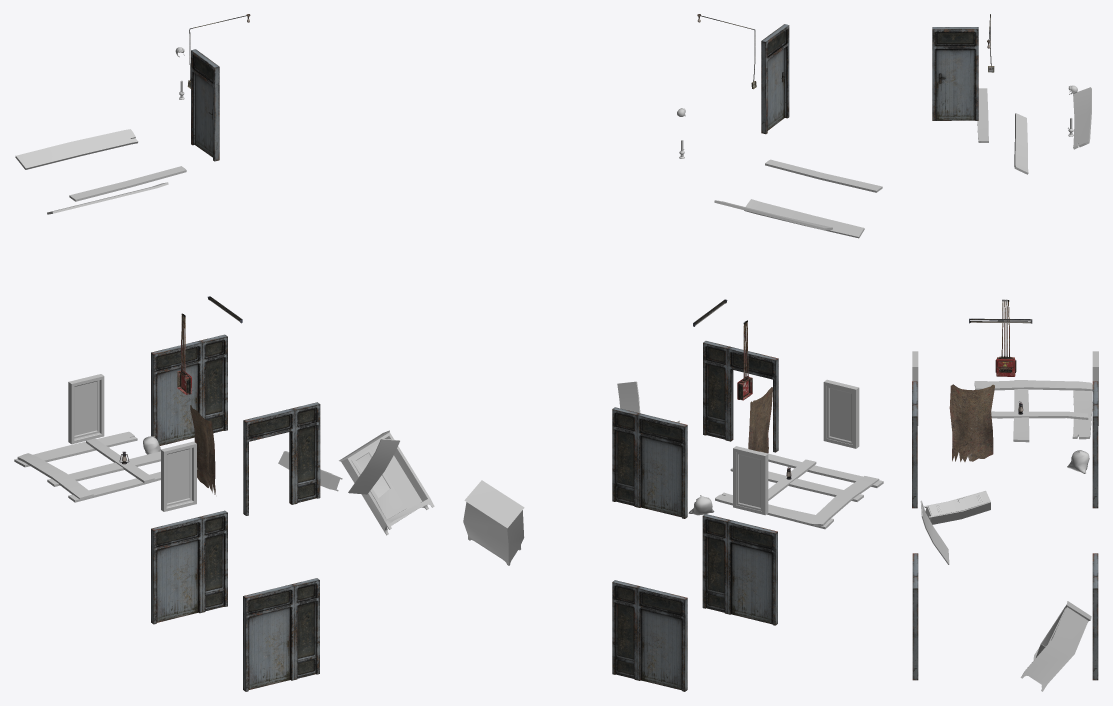
File: Lobby Props(Clone).fbx
3 views of the same model, side by side, from view 1: azimuth 30°, elevation 25°; view 2: azimuth 150°, elevation 25°; view 3: azimuth 270°, elevation 25° (orthographic). The views are drawn at different scales.
Parts seen in each view (by area): view 1: BigDoorFrame (×4), BigDoor (×3), DamagedWardrobe, SingleWindow (×2), SingleWindowFrame_T01 (×2), BrownPlanks_T09 (1), SingleDoorFrame, SingleDoor, TornCloth_T02, BigWoodenPlank, BrownPlanks_T09, BrownPlanks_T10 (+4 smaller); view 2: BigDoorFrame (×4), BigDoor (×3), DamagedWardrobe, SingleWindow (×2), SingleWindowFrame_T01 (×2), SingleDoorFrame, SingleDoor, BrownPlanks_T06 (1), TornCloth_T02, BrownPlanks_T10, BrownPlanks_T11 (1), BrownPlanks_T11 (+2 smaller); view 3: BigDoorFrame (×4), TornCloth_T02, SingleDoor, DamagedWardrobe, SingleDoorFrame, DamagedMetalCabinet, BrownPlanks_T10, BrownPlanks_T09 (1), BrownPlanks_T09, ElectricMeterLobby, BrownPlanks_T06 (1), BrownPlanks_T06 (+5 smaller).
Part boxes in pixels (left/top/right/bottom): BigDoorFrame (×4): left=151, top=334, right=320, bottom=691; BigDoor (×3): left=156, top=364, right=290, bottom=689; DamagedWardrobe: left=339, top=430, right=434, bottom=535; SingleWindow (×2): left=74, top=380, right=191, bottom=506; SingleWindowFrame_T01 (×2): left=68, top=374, right=196, bottom=511; BrownPlanks_T09 (1): left=15, top=129, right=138, bottom=169; SingleDoorFrame: left=191, top=49, right=219, bottom=161; SingleDoor: left=194, top=73, right=212, bottom=157; TornCloth_T02: left=190, top=405, right=215, bottom=494; BigWoodenPlank: left=348, top=438, right=399, bottom=494; BrownPlanks_T09: left=14, top=431, right=137, bottom=467; BrownPlanks_T10: left=17, top=453, right=93, bottom=499; BigDoorFrame (×4): left=612, top=341, right=778, bottom=691; BigDoor (×3): left=641, top=436, right=772, bottom=690; DamagedWardrobe: left=463, top=480, right=524, bottom=565; SingleWindow (×2): left=736, top=386, right=853, bottom=510; SingleWindowFrame_T01 (×2): left=733, top=379, right=859, bottom=515; SingleDoorFrame: left=761, top=24, right=789, bottom=134; SingleDoor: left=767, top=48, right=784, bottom=130; BrownPlanks_T06 (1): left=744, top=199, right=864, bottom=238; TornCloth_T02: left=748, top=387, right=772, bottom=453; BrownPlanks_T10: left=808, top=476, right=879, bottom=525; BrownPlanks_T11 (1): left=765, top=159, right=882, bottom=192; BrownPlanks_T11: left=760, top=451, right=883, bottom=487; BigDoorFrame (×4): left=912, top=381, right=1098, bottom=680; TornCloth_T02: left=949, top=384, right=994, bottom=461; SingleDoor: left=935, top=49, right=975, bottom=120; DamagedWardrobe: left=1021, top=601, right=1091, bottom=691; SingleDoorFrame: left=932, top=27, right=978, bottom=120; DamagedMetalCabinet: left=924, top=490, right=990, bottom=524; BrownPlanks_T10: left=974, top=380, right=1092, bottom=391; BrownPlanks_T09 (1): left=1073, top=87, right=1091, bottom=149; BrownPlanks_T09: left=1072, top=390, right=1092, bottom=439; ElectricMeterLobby: left=995, top=299, right=1016, bottom=376; BrownPlanks_T06 (1): left=1014, top=113, right=1028, bottom=174; BrownPlanks_T06: left=1013, top=380, right=1029, bottom=442.
Bounding box in the file's own units: 11.85 × 18.55 × 5.04.
